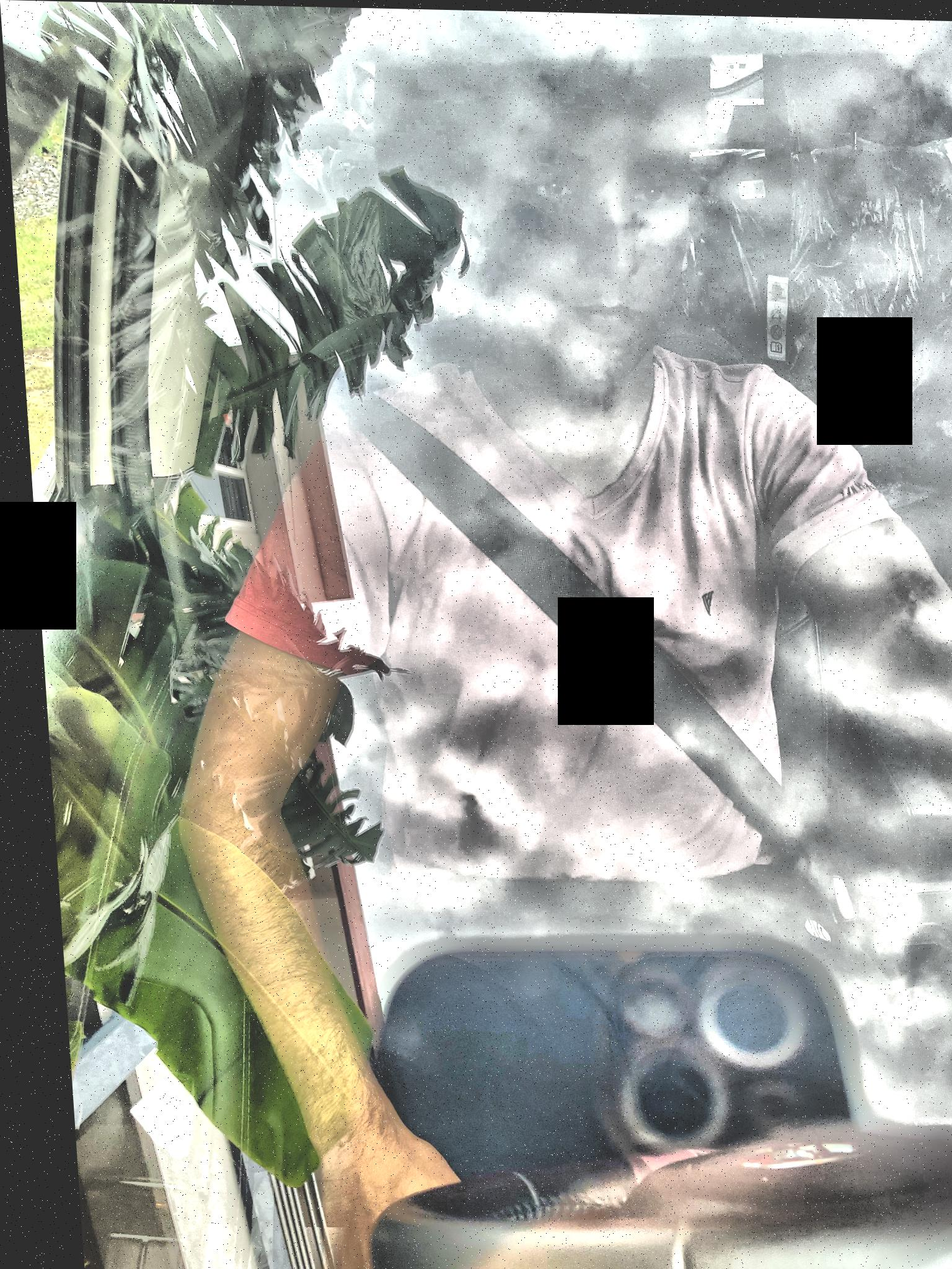seatbelt: (250, 319, 882, 955)
